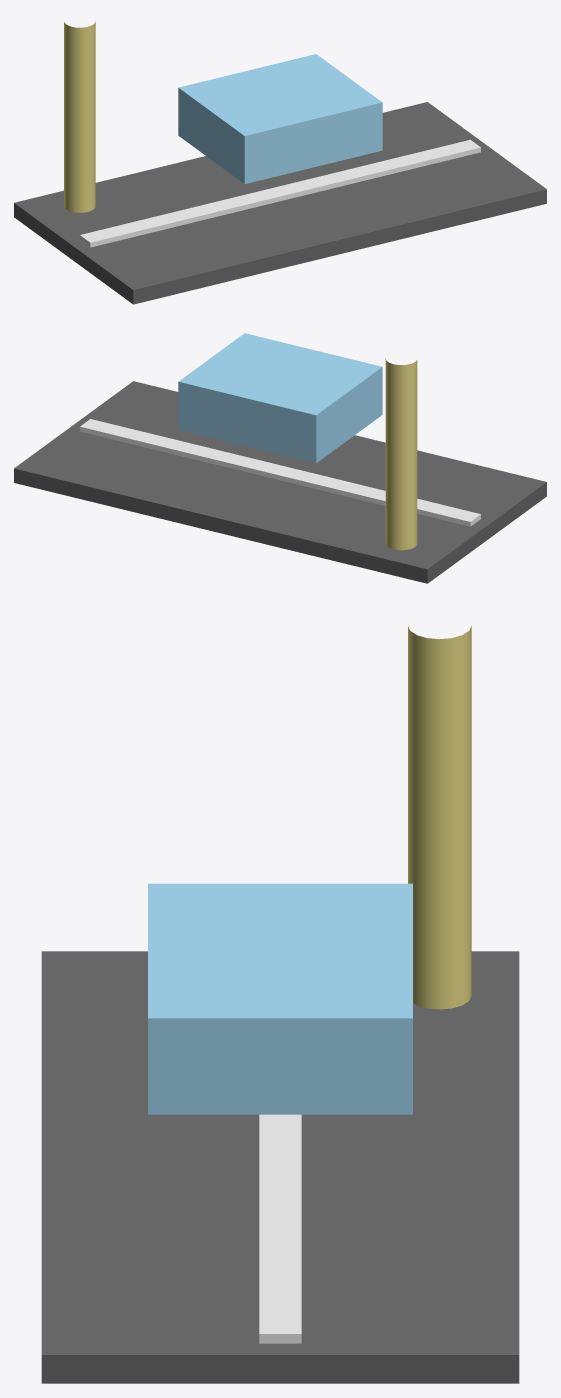
Rendered from airport_runway_length_corrections.glb.
3 views of the same model, one above another, from view 1: azimuth 30°, elevation 25°; view 2: azimuth 150°, elevation 25°; view 3: azimuth 270°, elevation 25° (orthographic). The views are drawn at different scales.
Visible parts, largest first — view 1: PavedAsphaltRunwayStripTrack, CommercialAircraftApproachModel, WhiteRunwayThresholdCenterlineMarkings, AirportElevationTemperatureReferenceTower; view 2: PavedAsphaltRunwayStripTrack, CommercialAircraftApproachModel, AirportElevationTemperatureReferenceTower, WhiteRunwayThresholdCenterlineMarkings; view 3: PavedAsphaltRunwayStripTrack, CommercialAircraftApproachModel, AirportElevationTemperatureReferenceTower, WhiteRunwayThresholdCenterlineMarkings.
Part boxes in pixels (x1,y1,x2,y2): PavedAsphaltRunwayStripTrack: (14,102,546,304); CommercialAircraftApproachModel: (178,54,382,183); WhiteRunwayThresholdCenterlineMarkings: (80,139,480,247); AirportElevationTemperatureReferenceTower: (64,21,95,212); PavedAsphaltRunwayStripTrack: (14,381,546,583); CommercialAircraftApproachModel: (178,333,382,463); AirportElevationTemperatureReferenceTower: (385,358,417,550); WhiteRunwayThresholdCenterlineMarkings: (80,419,480,526); PavedAsphaltRunwayStripTrack: (41,951,519,1383); CommercialAircraftApproachModel: (148,883,412,1114); AirportElevationTemperatureReferenceTower: (408,626,471,1009); WhiteRunwayThresholdCenterlineMarkings: (259,1114,301,1343).
Bounding box in the file's own units: 1.8 × 0.83 × 0.9.
